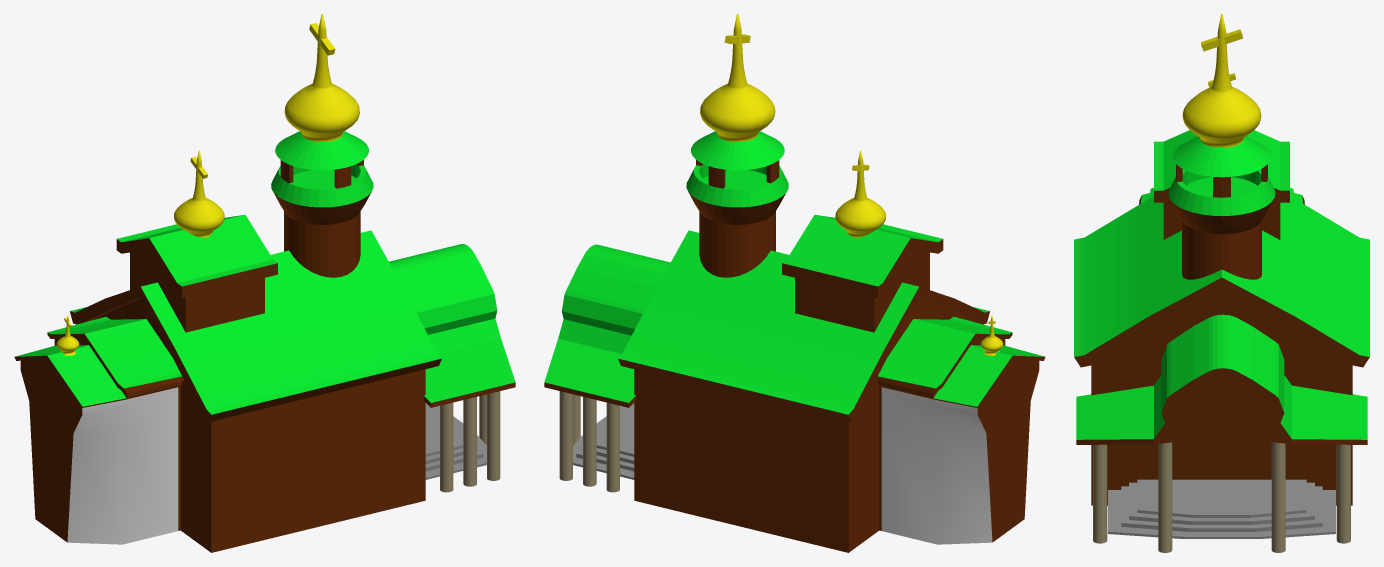
The model's file is church3.fbx.
The picture shows the model from 3 angles, left to right: view 1: azimuth 30°, elevation 25°; view 2: azimuth 150°, elevation 25°; view 3: azimuth 270°, elevation 25°; orthographic projection. The views are drawn at different scales.
Visible parts, largest first — view 1: Cube.001, Cube.005, Cube, Cube.002, Cube.003, Cylinder.002, Cylinder.003, Cylinder.005; view 2: Cube.001, Cube.005, Cube, Cube.002, Cube.003, Cylinder.004, Cylinder.006, Cylinder.007; view 3: Cube.001, Cube.002, Cube.005, Cube.003, Cube, Cylinder.008, Cylinder.009, Cylinder.004, Cylinder.002.
Part boxes in pixels (left/top/right/bottom): Cube.001: left=14, top=230, right=441, bottom=552; Cube.005: left=271, top=14, right=373, bottom=277; Cube: left=116, top=150, right=277, bottom=332; Cube.002: left=389, top=244, right=515, bottom=407; Cube.003: left=425, top=403, right=486, bottom=479; Cylinder.002: left=487, top=391, right=500, bottom=480; Cylinder.003: left=440, top=402, right=453, bottom=492; Cylinder.005: left=463, top=397, right=476, bottom=486; Cube.001: left=618, top=230, right=1045, bottom=552; Cube.005: left=686, top=14, right=788, bottom=277; Cube: left=782, top=150, right=943, bottom=332; Cube.002: left=544, top=244, right=670, bottom=407; Cube.003: left=573, top=403, right=634, bottom=479; Cylinder.004: left=559, top=391, right=572, bottom=480; Cylinder.006: left=606, top=402, right=619, bottom=492; Cylinder.007: left=583, top=397, right=596, bottom=486; Cube.001: left=1074, top=187, right=1369, bottom=505; Cube.002: left=1076, top=314, right=1367, bottom=444; Cube.005: left=1168, top=14, right=1275, bottom=279; Cube.003: left=1108, top=479, right=1335, bottom=538; Cube: left=1154, top=73, right=1289, bottom=239; Cylinder.008: left=1271, top=442, right=1285, bottom=552; Cylinder.009: left=1158, top=442, right=1172, bottom=552; Cylinder.004: left=1336, top=444, right=1350, bottom=543; Cylinder.002: left=1093, top=444, right=1107, bottom=543.
Bounding box in the file's own units: 1792 × 1832 × 1044.
